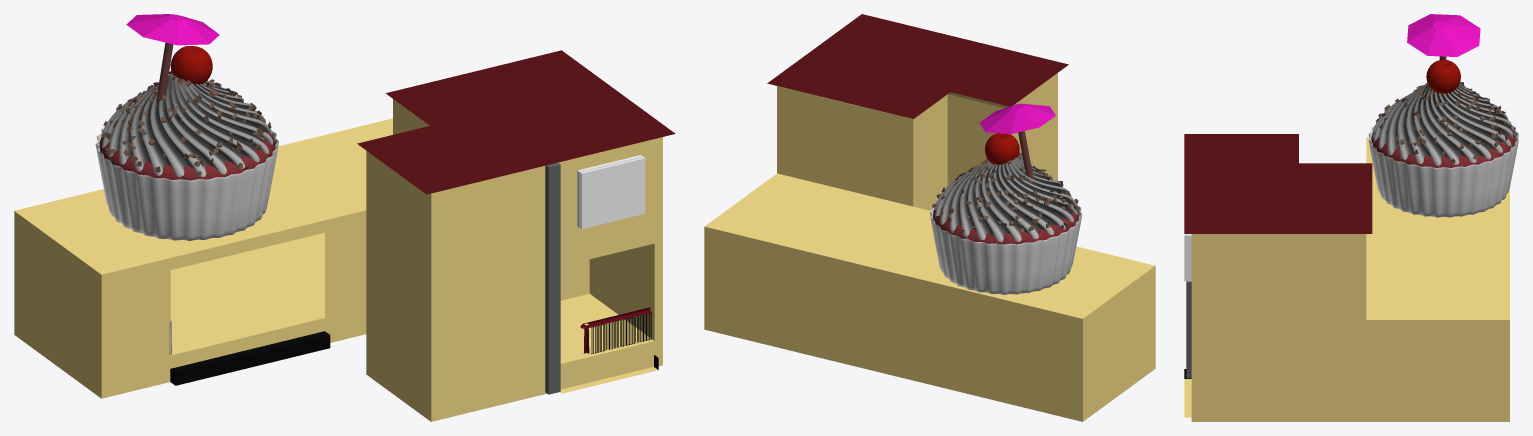
Rendered from Canteen.glb.
3 renders of one model, left to right at view 1: azimuth 30°, elevation 25°; view 2: azimuth 150°, elevation 25°; view 3: azimuth 270°, elevation 25°, orthographic. The views are drawn at different scales.
Parts seen in each view (by area): view 1: Plane, cream, cover, CTRL_Hole.001, umbrella, muffin, Sphere; view 2: Plane, cream, cover, umbrella, muffin, Sphere; view 3: Plane, cream, cover, umbrella, muffin, Sphere.
Part boxes in pixels (bbox=[...]): Plane: bbox=[14, 50, 675, 421]; cream: bbox=[101, 73, 273, 177]; cover: bbox=[95, 127, 278, 240]; CTRL_Hole.001: bbox=[577, 155, 645, 228]; umbrella: bbox=[126, 14, 219, 45]; muffin: bbox=[99, 132, 274, 180]; Sphere: bbox=[170, 46, 212, 84]; Plane: bbox=[704, 14, 1155, 421]; cream: bbox=[934, 157, 1077, 241]; cover: bbox=[929, 199, 1082, 294]; umbrella: bbox=[979, 103, 1055, 134]; muffin: bbox=[933, 204, 1078, 244]; Sphere: bbox=[985, 133, 1019, 164]; Plane: bbox=[1184, 134, 1509, 421]; cream: bbox=[1373, 82, 1514, 165]; cover: bbox=[1368, 121, 1518, 217]; umbrella: bbox=[1407, 14, 1480, 56]; muffin: bbox=[1371, 128, 1515, 167]; Sphere: bbox=[1426, 59, 1460, 93].
Bounding box in the file's own units: 21.09 × 13.93 × 16.03.
